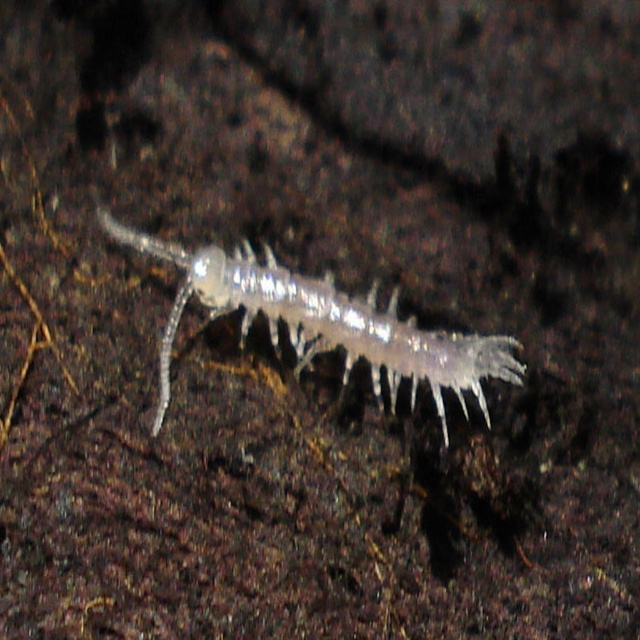Centipede: (98, 210, 528, 444)
